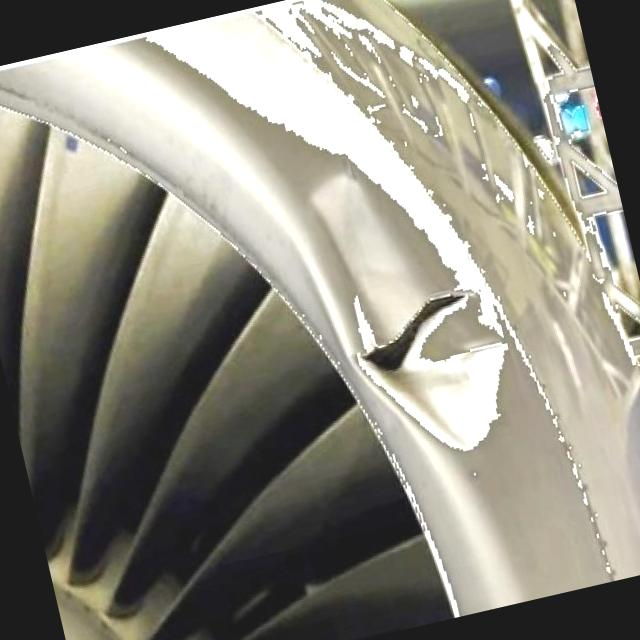crack: (352, 289, 482, 379)
